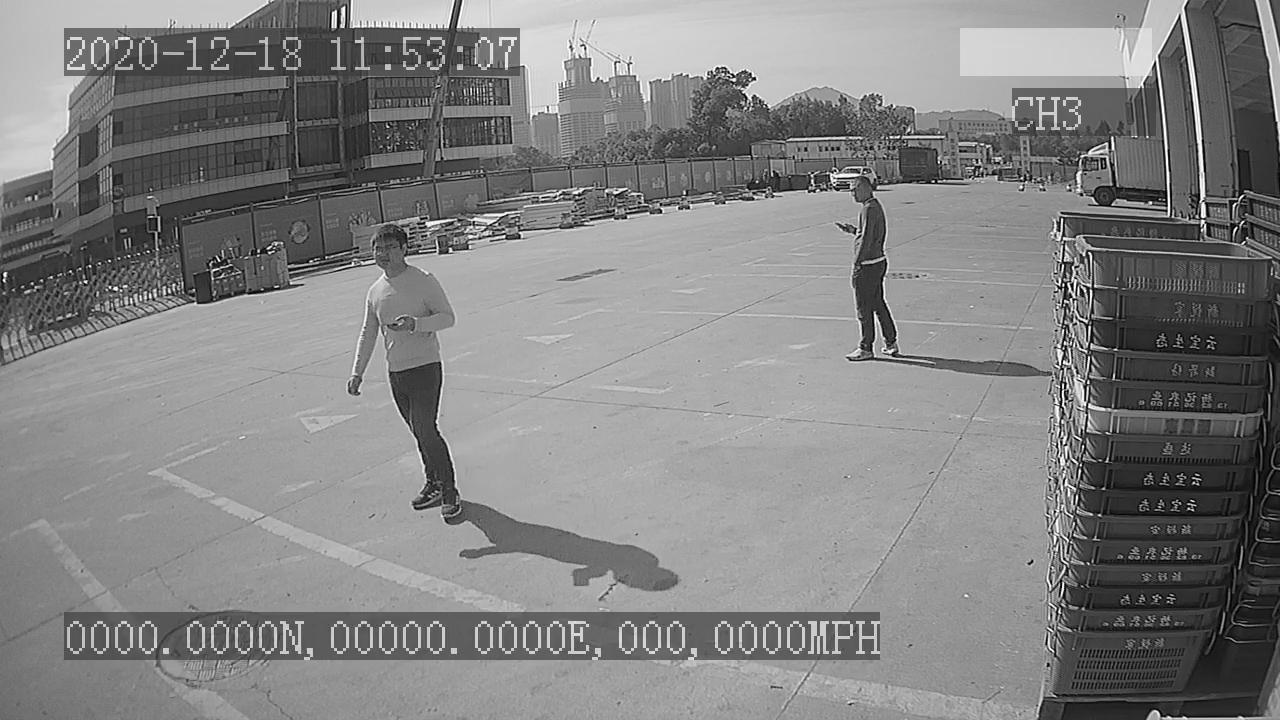person: (340, 224, 467, 526), (824, 167, 906, 367)
